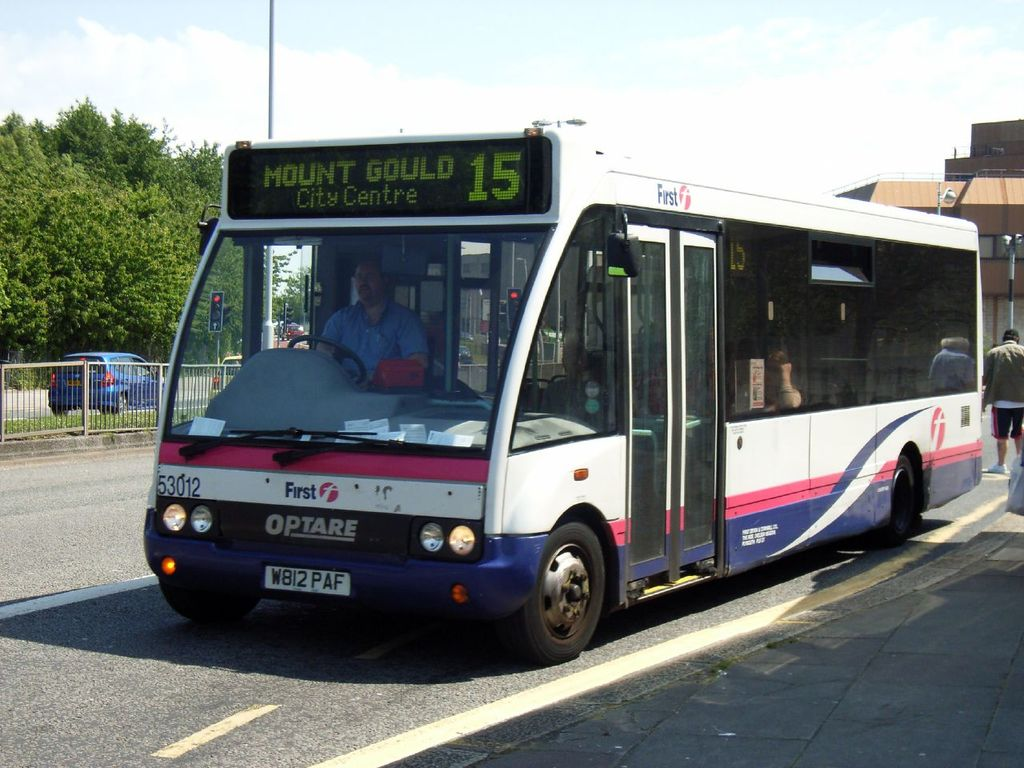car: (38, 349, 186, 423)
truck: (123, 115, 1003, 643)
